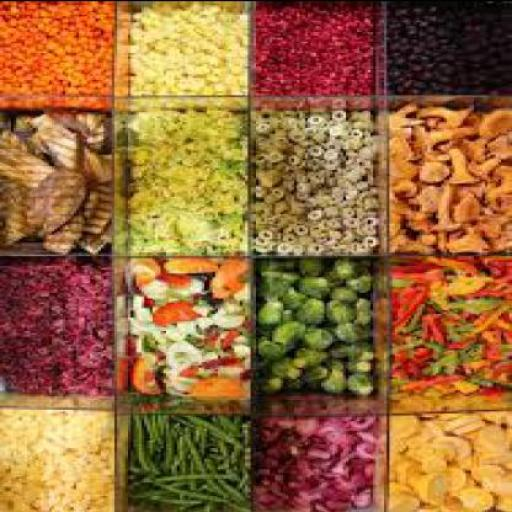biodegradable: (250, 111, 376, 259), (386, 106, 510, 256), (386, 256, 510, 406), (120, 110, 242, 254), (126, 260, 242, 403), (1, 259, 109, 395), (250, 402, 381, 511), (125, 1, 245, 110), (254, 2, 370, 108), (386, 414, 511, 510), (124, 414, 248, 510), (0, 2, 112, 108), (384, 2, 510, 94), (0, 412, 112, 511), (30, 168, 87, 234), (0, 131, 47, 188), (27, 117, 76, 169), (0, 176, 31, 247), (52, 112, 103, 154), (180, 374, 245, 405), (411, 126, 474, 156), (468, 136, 509, 180), (204, 261, 245, 303), (150, 298, 207, 328), (79, 182, 109, 238), (40, 214, 78, 256), (163, 334, 210, 366), (441, 146, 473, 190), (444, 224, 488, 256), (128, 357, 160, 399), (73, 151, 109, 186), (428, 188, 454, 236), (259, 270, 294, 305), (408, 108, 462, 128), (158, 259, 221, 276), (295, 299, 327, 330), (294, 324, 332, 350), (477, 112, 509, 142), (126, 258, 158, 288), (297, 362, 327, 394), (270, 323, 308, 347), (204, 312, 245, 334), (327, 258, 367, 280), (322, 298, 351, 328), (341, 370, 370, 399), (155, 320, 196, 340), (327, 342, 367, 362), (289, 349, 324, 370), (300, 326, 329, 351), (295, 279, 327, 301), (338, 272, 370, 294), (254, 340, 286, 362), (348, 297, 368, 332), (267, 360, 302, 380), (332, 359, 373, 376), (319, 371, 346, 395), (76, 232, 104, 254), (256, 304, 283, 326), (256, 374, 286, 393), (297, 261, 329, 278), (258, 261, 306, 271), (275, 289, 297, 309)
